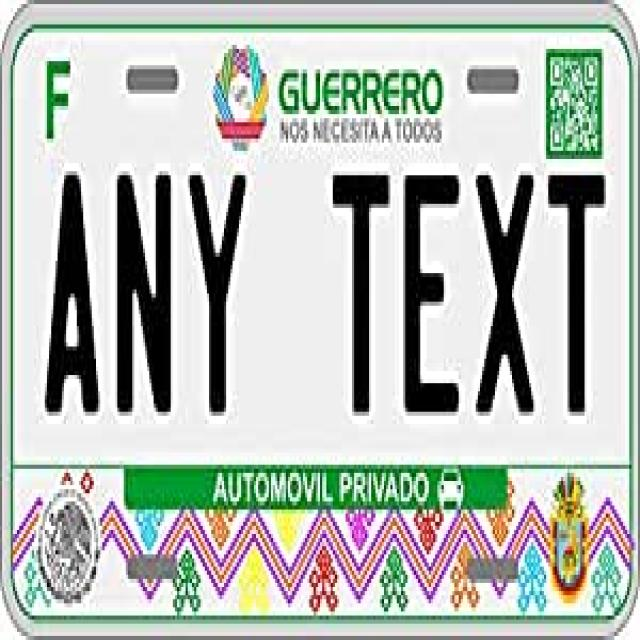placa: (13, 140, 626, 443)
